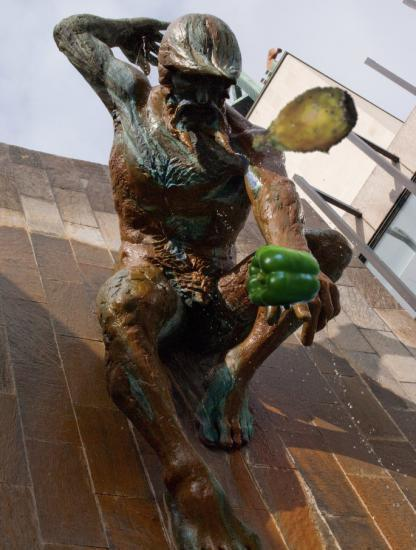Cactus: (247, 69, 362, 184)
Pepper: (244, 238, 322, 316)
